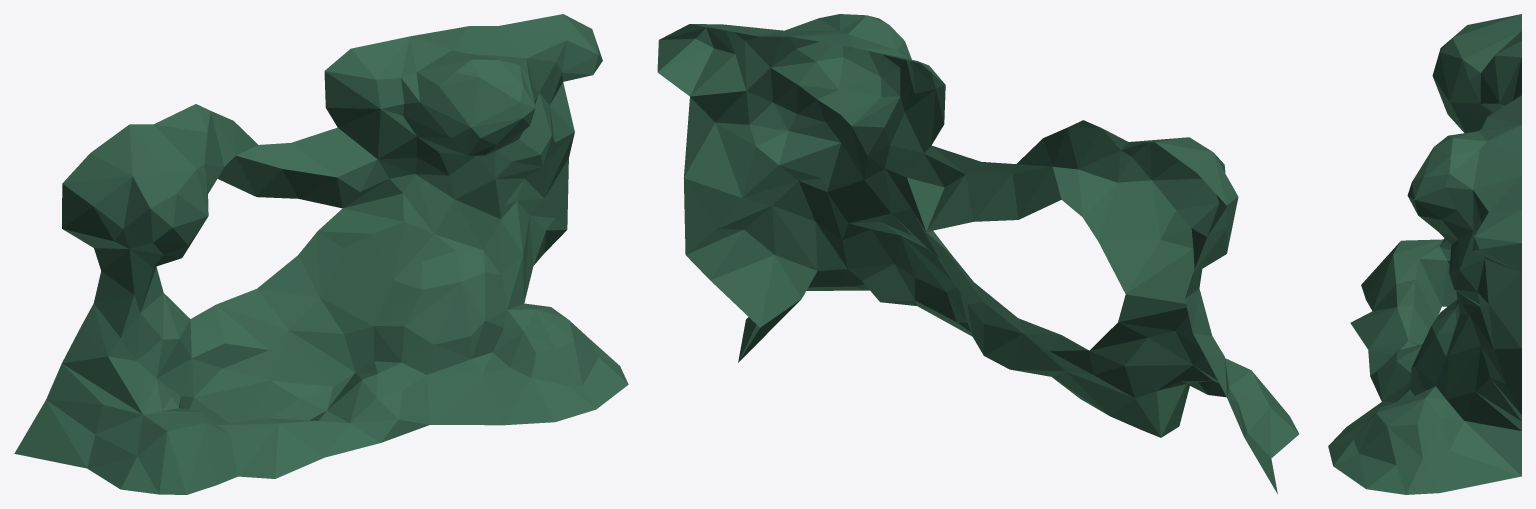
The model's file is BioMass.fbx.
The picture shows the model from 3 angles, left to right: view 1: azimuth 30°, elevation 25°; view 2: azimuth 150°, elevation 25°; view 3: azimuth 270°, elevation 25°; orthographic projection. The views are drawn at different scales.
Parts seen in each view (by area): view 1: Plane.001; view 2: Plane.001; view 3: Plane.001.
Part boxes in pixels (x1,y1,x2,y2): Plane.001: (14, 14, 628, 494); Plane.001: (657, 14, 1299, 494); Plane.001: (1328, 14, 1521, 494).
Bounding box in the file's own units: 746 × 398 × 230.
